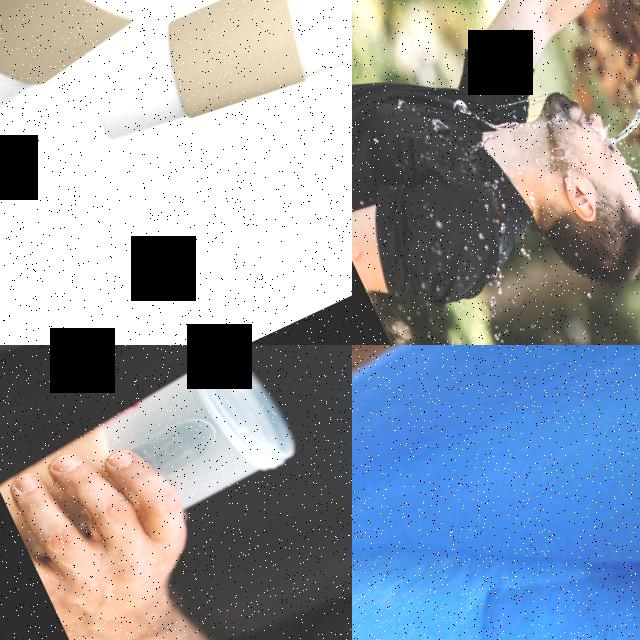cup: (0, 345, 305, 581), (69, 0, 352, 179), (0, 0, 235, 152)
